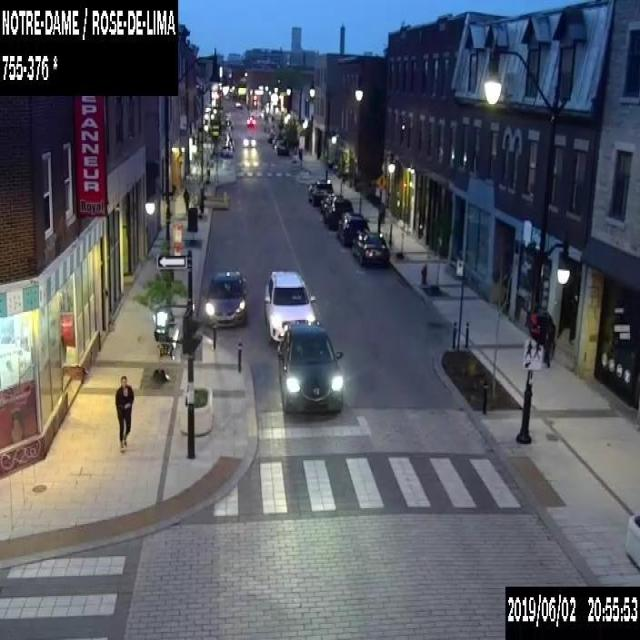pedestrian: (115, 373, 134, 451), (182, 187, 190, 213)
vehicle: (278, 324, 342, 412), (264, 270, 318, 344), (204, 270, 247, 327), (349, 229, 388, 265), (336, 212, 368, 246), (323, 197, 352, 230), (310, 179, 332, 207), (320, 193, 337, 214), (220, 140, 232, 157), (305, 182, 315, 202), (274, 139, 287, 154), (242, 136, 255, 147), (246, 114, 255, 126), (266, 132, 274, 143), (229, 137, 234, 149), (272, 135, 277, 147), (236, 101, 240, 106)
